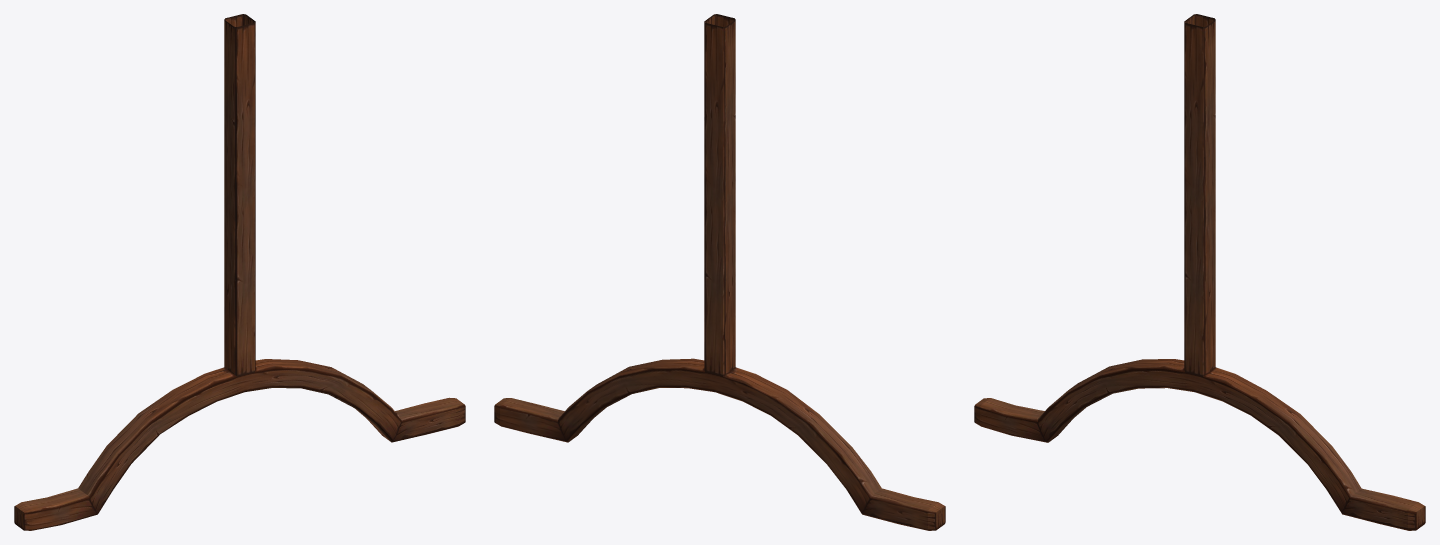
Rendered from CrossBeam.fbx.
3 renders of one model, left to right at view 1: azimuth 30°, elevation 25°; view 2: azimuth 150°, elevation 25°; view 3: azimuth 330°, elevation 25°, orthographic.
Visible parts, largest first — view 1: pCube20; view 2: pCube20; view 3: pCube20.
Boxes of the visible parts, left/top/right/bottom form: pCube20: left=14, top=14, right=465, bottom=530; pCube20: left=494, top=14, right=945, bottom=530; pCube20: left=974, top=14, right=1425, bottom=530.
Bounding box in the file's own units: 21.27 × 21.02 × 1.12.
